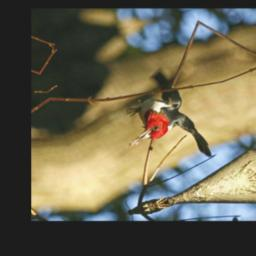Woodpecker: (103, 63, 222, 181)
